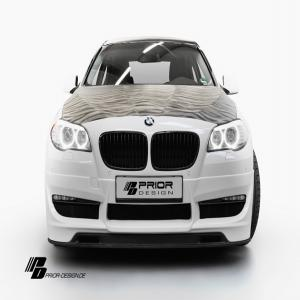Vehicle-registration-plate: (116, 176, 184, 213)
